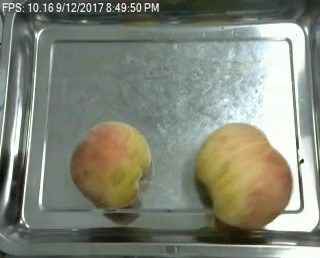Peach: (194, 121, 292, 230), (68, 120, 152, 208)
